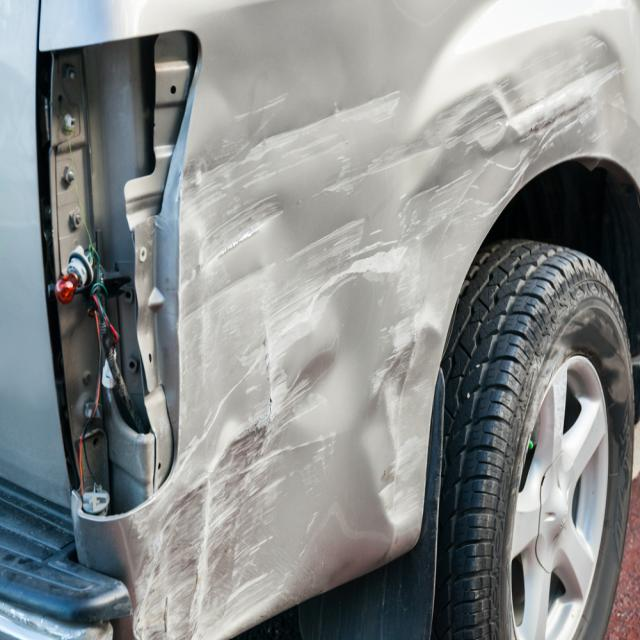dent: (121, 4, 627, 640)
lamp broken: (43, 30, 201, 520)
